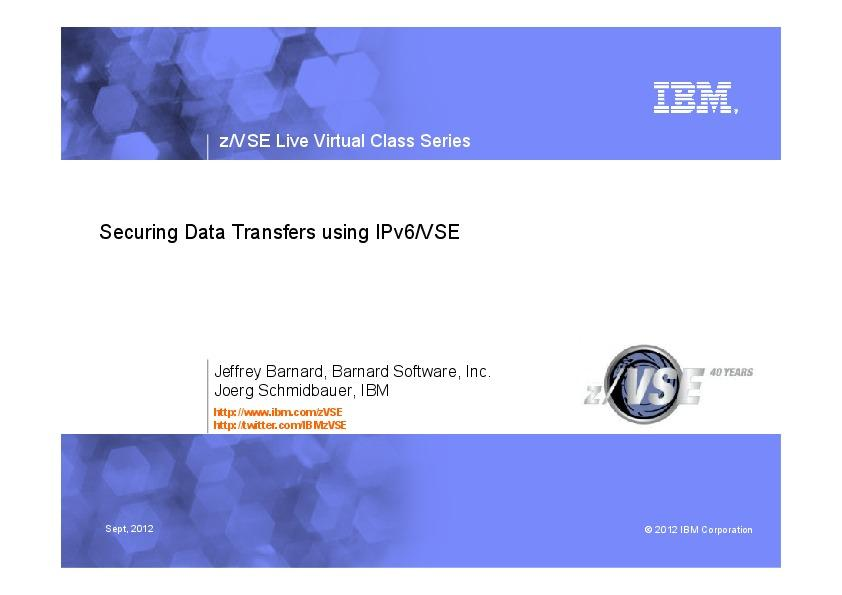subtitle: (77, 202, 488, 266), (202, 355, 522, 402)
title: (193, 115, 506, 163)
